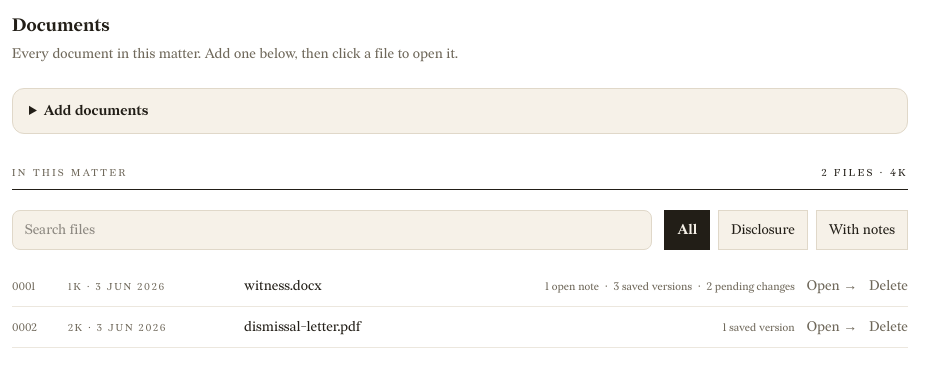
Test: DocumentsTab — document ingress › searches and filters the document library without opening files
Type "dismissal" into the field with placeholder "Search files". click: (332, 230)
box: [12,210,652,250]
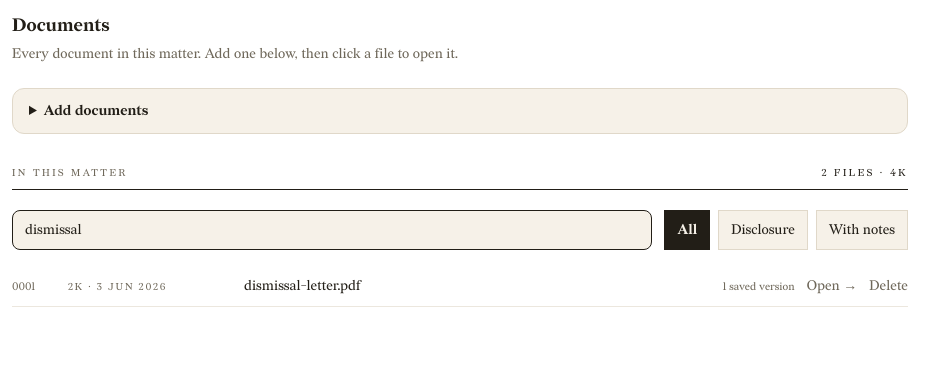
Check: the link "dismissal-letter.pdf" is shown, box [244,277,361,294]
Check: the link "witness.docx" is gone
Clear the field with placeholder "Search files". click: (332, 230)
box: [12,210,652,250]
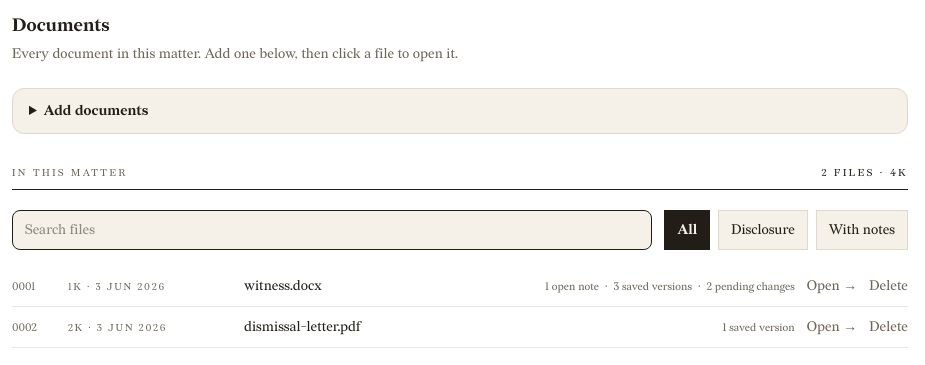
Click the button "With notes". click: (862, 230)
box: [816,210,908,250]
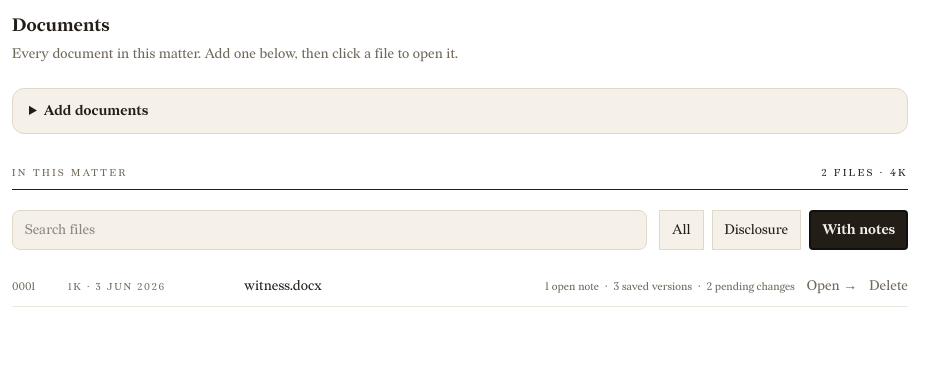
Check: the link "witness.docx" is shown, box [244,277,322,294]
Check: the link "dismissal-letter.pdf" is gone
Click the button "Disclosure". click: (756, 230)
box: [712,210,801,250]
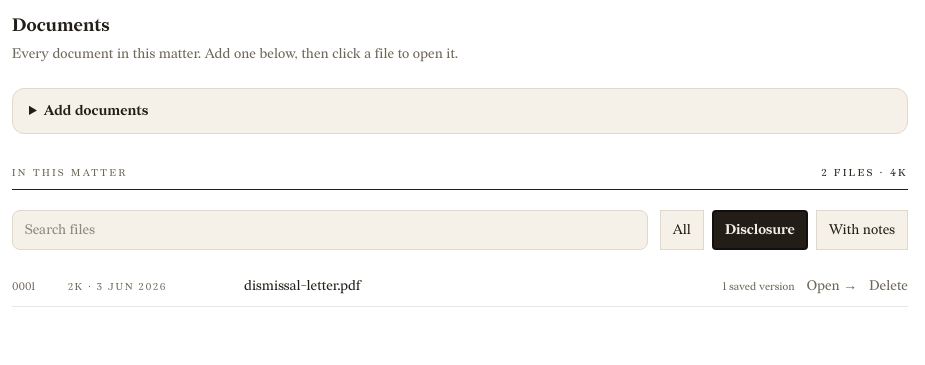
Check: the link "witness.docx" is gone
Check: the link "dismissal-letter.pdf" is shown, box [244,277,361,294]
